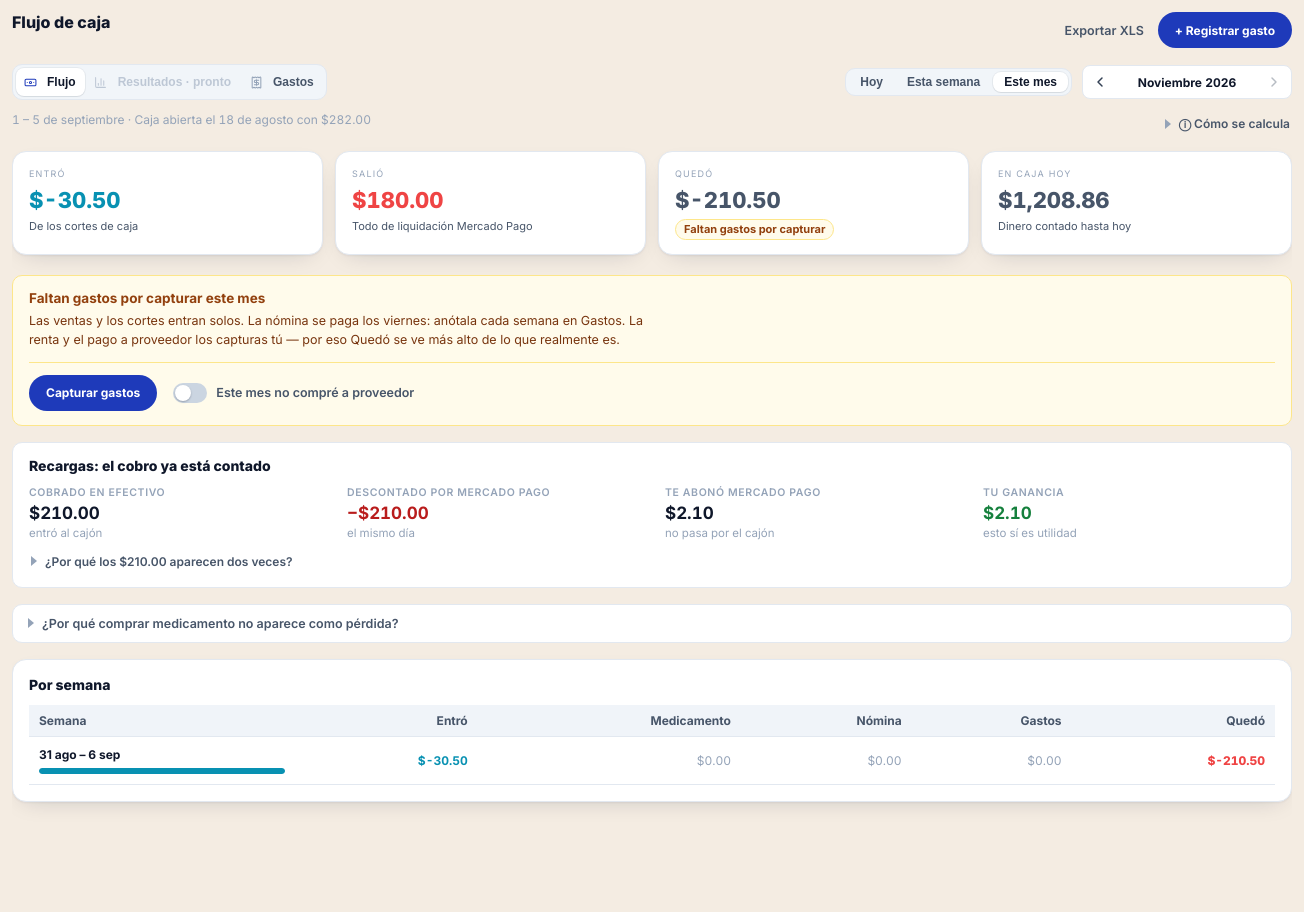
it: en Gastos la nómina se describe como semanal de viernes
Click the tab "Gastos". click: (282, 82)
box: x1=242 y1=68 x2=323 y2=96
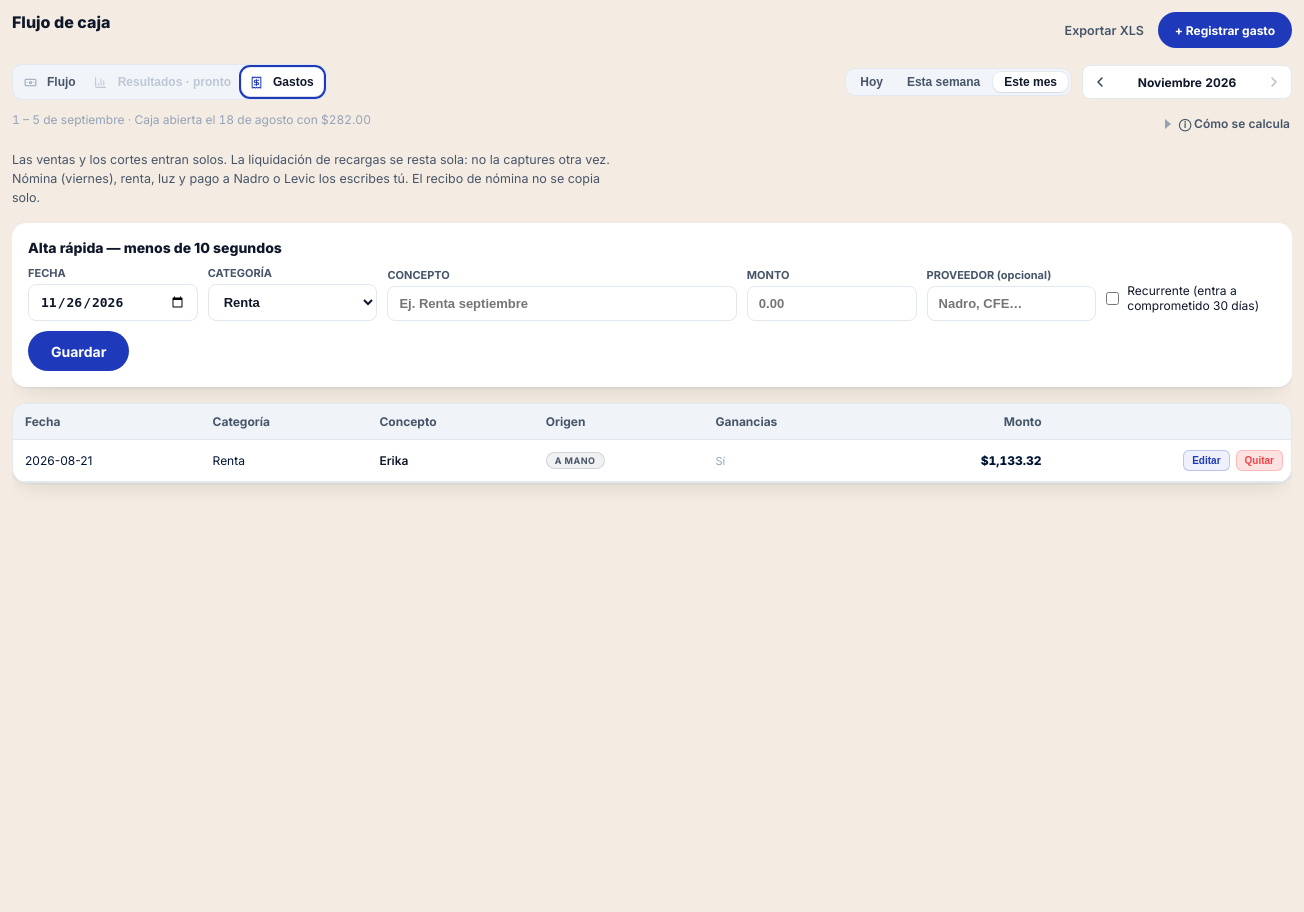
Expected: the text "Nómina (viernes)" is shown, x1=12 y1=152 x2=610 y2=204
Select "Nómina" in the dropdown showing "Renta". click: (293, 303)
box: x1=208 y1=284 x2=377 y2=321
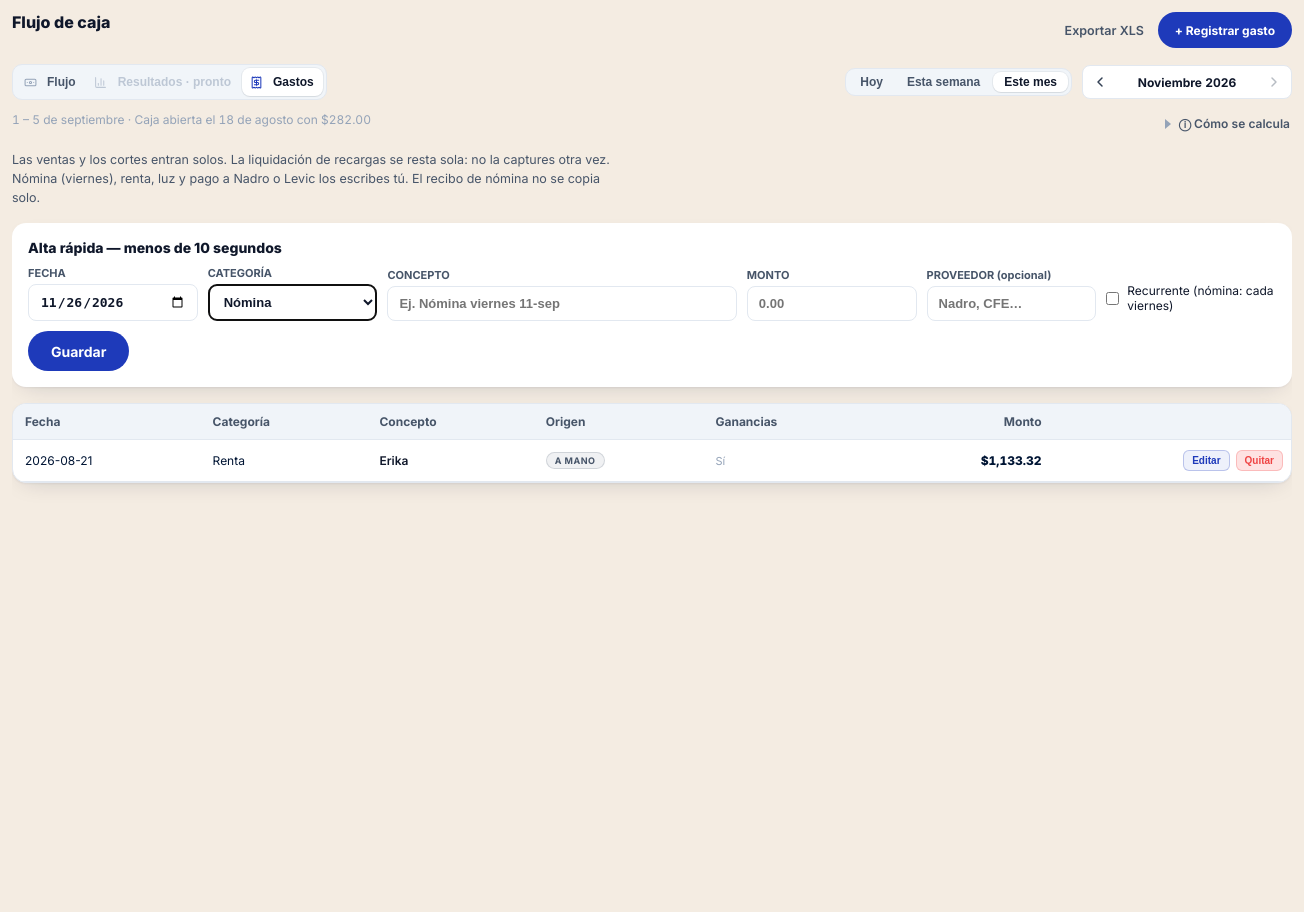
Expected: the field with placeholder "Ej. Nómina viernes 11-sep" is shown, x1=387 y1=286 x2=737 y2=321
Expected: the text "Recurrente (nómina: cada viernes)" is shown, x1=1106 y1=283 x2=1276 y2=321
